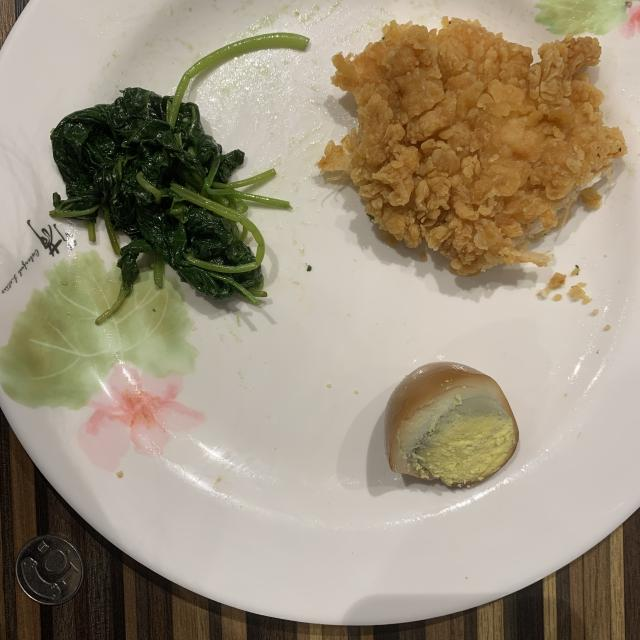coin: (15, 535, 84, 605)
fried chicken cutlet: (320, 18, 626, 275)
soy egg: (385, 361, 519, 488)
sweet potato leaves: (50, 32, 309, 324)
